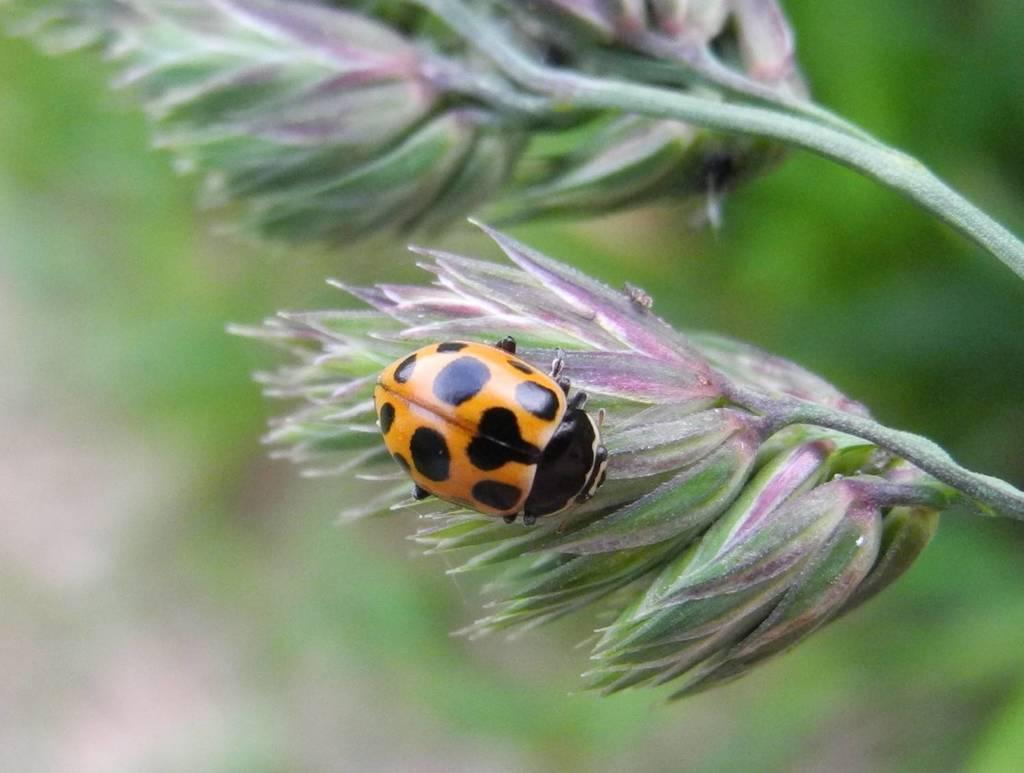ladybug: (373, 331, 617, 531)
